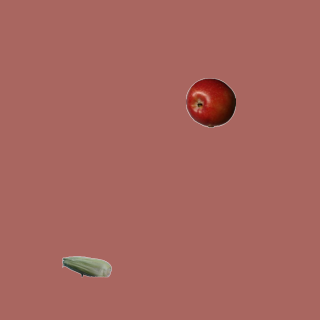Apple Braeburn: (185, 77, 235, 127)
Corn Husk: (61, 241, 111, 291)
